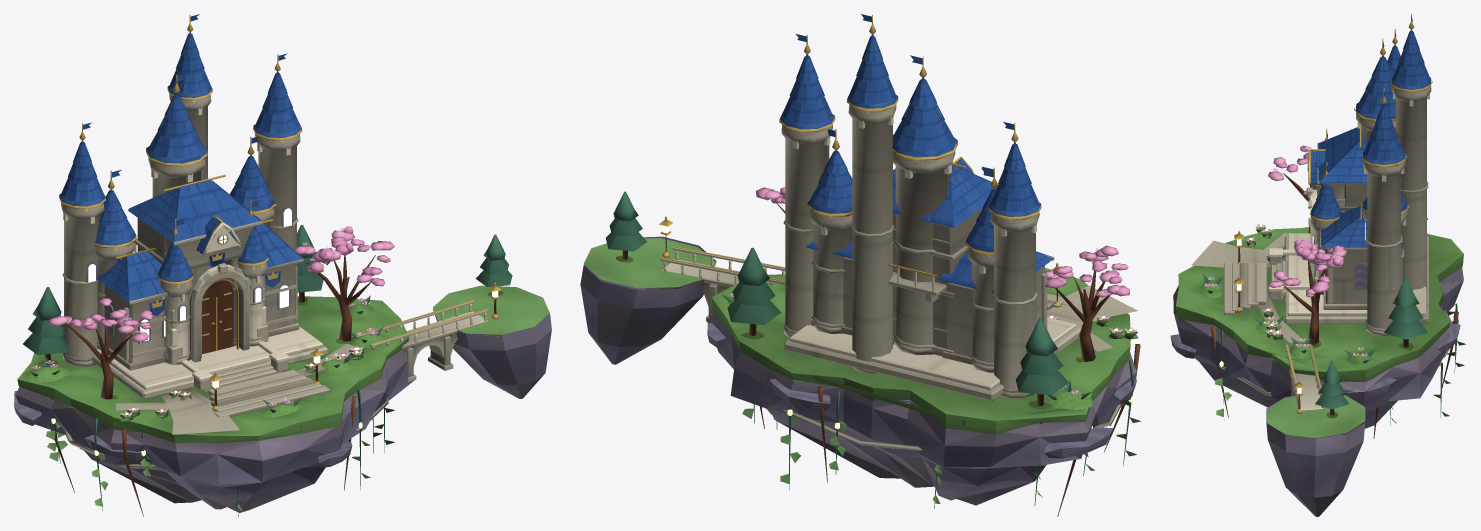
File: royal-island-citadel-final-v1-low.glb
3 renders of one model, left to right at view 1: azimuth 30°, elevation 25°; view 2: azimuth 150°, elevation 25°; view 3: azimuth 270°, elevation 25°, orthographic. The views are drawn at different scales.
Parts seen in each view (by area): view 1: royal-island-citadel-final-v1; view 2: royal-island-citadel-final-v1; view 3: royal-island-citadel-final-v1.
Boxes of the visible parts, left/top/right/bottom form: royal-island-citadel-final-v1: left=14, top=14, right=551, bottom=516; royal-island-citadel-final-v1: left=580, top=14, right=1140, bottom=516; royal-island-citadel-final-v1: left=1170, top=14, right=1465, bottom=516.
Size of the model in its own units: 19 by 16.49 by 10.83.
Materials: 10 (10 with a texture image).
